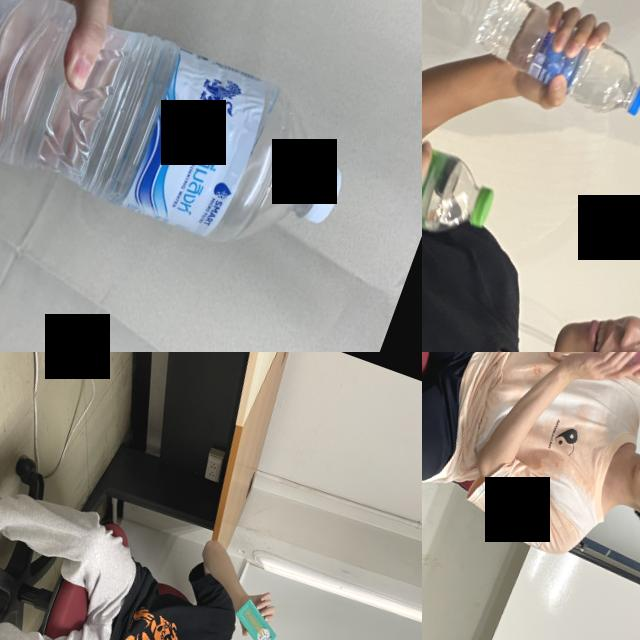bottle: (0, 0, 375, 281), (463, 0, 640, 130), (422, 90, 507, 259)
